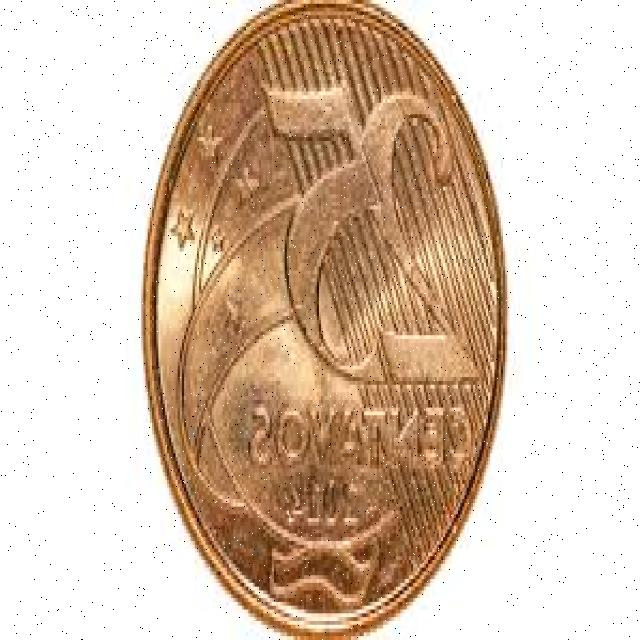25 cent: (145, 0, 498, 628)
